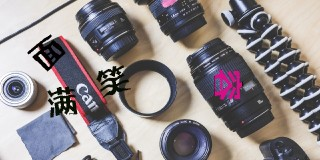容: (213, 69, 243, 101)
满: (47, 85, 78, 117)
笑: (96, 64, 132, 97)
面: (27, 33, 66, 72)
